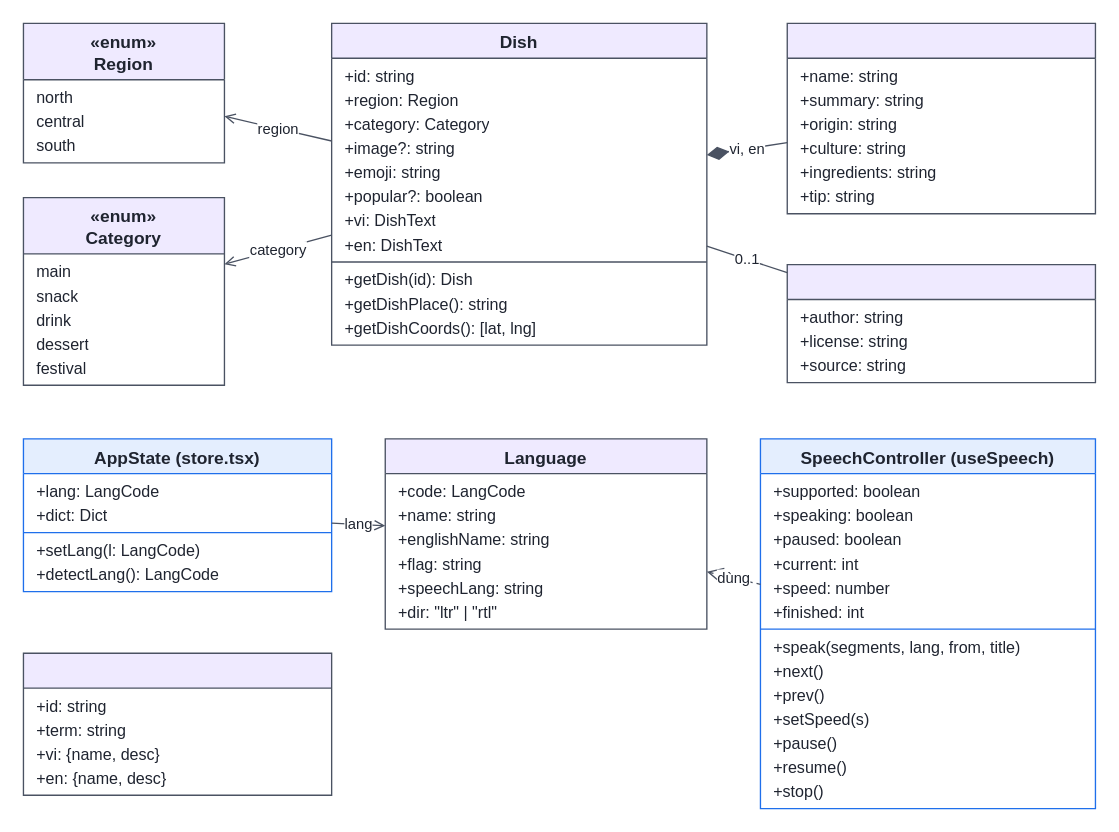
The diagram is 1119 pixels wide and 832 high, and some of its shapes have lost their labels. Each missing label, with the box of its shape:
DishText: (786, 22, 1095, 214)
GlossaryTerm: (22, 652, 332, 795)
PhotoCredit: (786, 263, 1095, 383)
